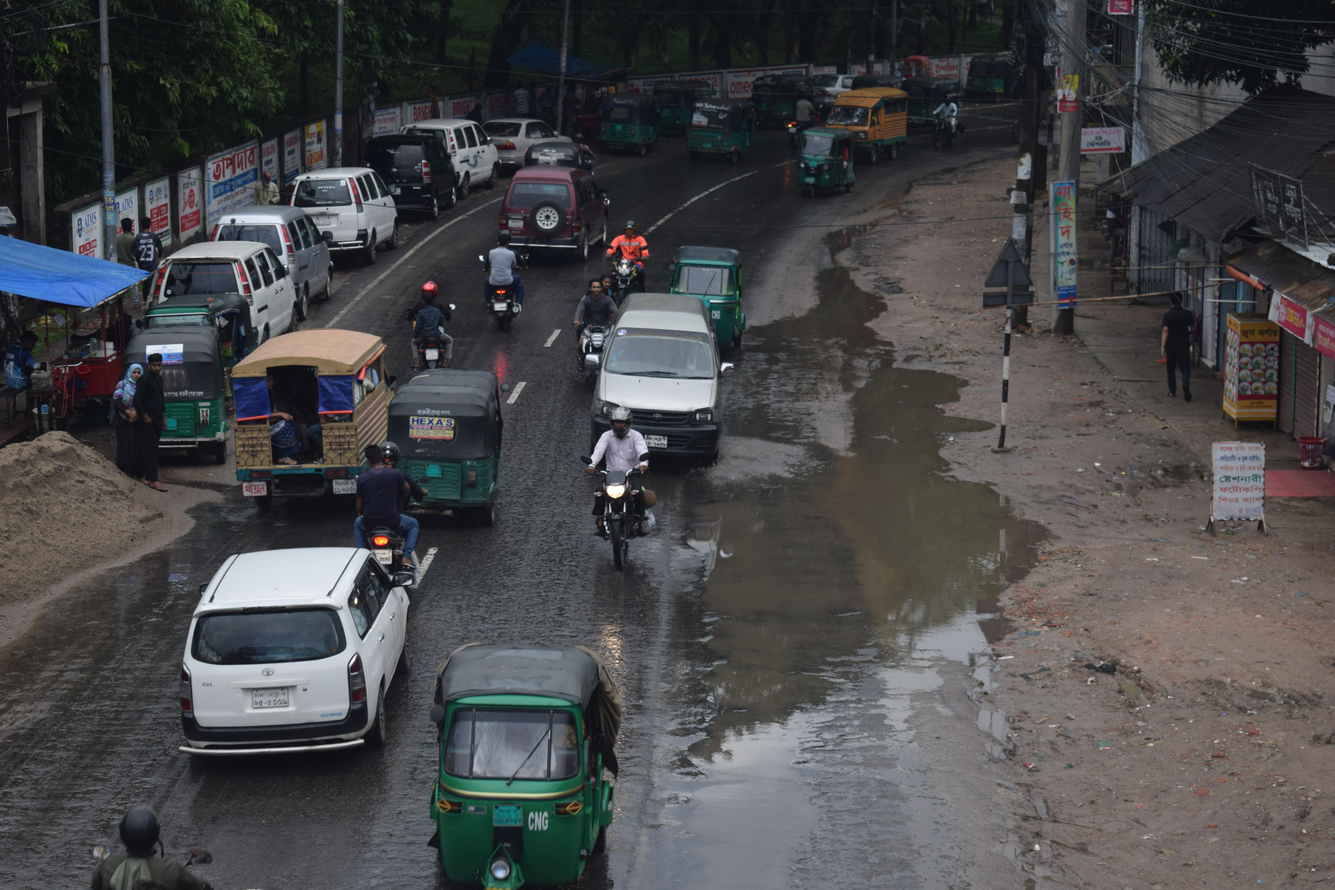Bike: (563, 395, 679, 566), (459, 211, 538, 335), (387, 267, 473, 370), (555, 270, 622, 380), (591, 207, 654, 296)
Car: (159, 522, 424, 781), (582, 280, 723, 475), (281, 151, 418, 272), (489, 154, 620, 264), (398, 114, 508, 203), (822, 88, 917, 167), (479, 105, 588, 165)
